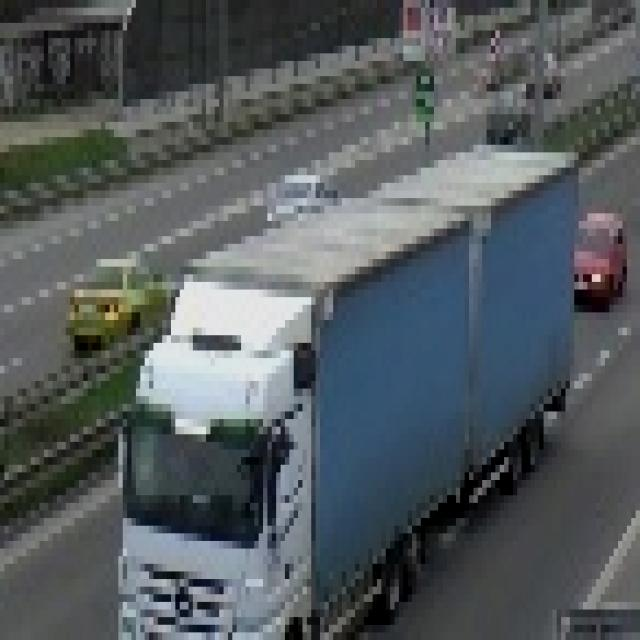SED: (566, 216, 628, 313)
TRUCK: (124, 152, 581, 640)
